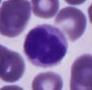L: (22, 24, 68, 67)
